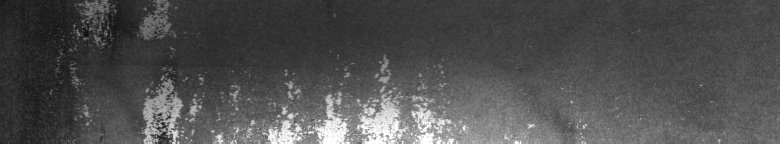kb: (47, 4, 468, 136)
